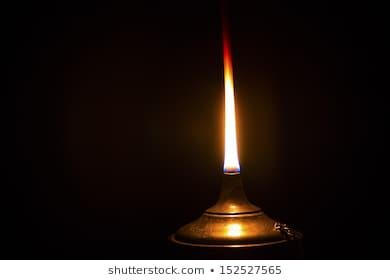fire: (218, 31, 242, 176)
